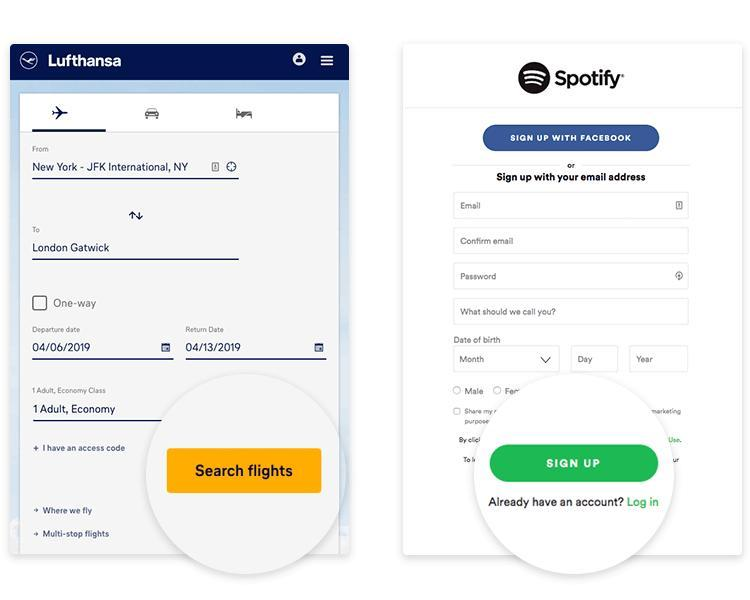button: (490, 446, 663, 483), (167, 451, 322, 492), (484, 125, 660, 154)
checkbox: (33, 297, 49, 312), (454, 408, 462, 416)
dropdown: (455, 347, 559, 373)
icon: (227, 102, 261, 125), (48, 104, 72, 122), (142, 106, 164, 124), (319, 51, 337, 71), (292, 53, 308, 70), (130, 208, 144, 223)
input: (454, 193, 688, 221), (455, 263, 689, 290), (454, 231, 690, 255), (456, 300, 690, 324), (627, 347, 690, 373), (576, 345, 618, 373)
label: (497, 170, 651, 184), (30, 387, 109, 398), (51, 298, 97, 313), (30, 326, 85, 338), (450, 335, 505, 346), (186, 324, 228, 336), (465, 409, 494, 426), (29, 147, 54, 156), (465, 387, 486, 397), (30, 224, 45, 237), (506, 385, 522, 396)
radio: (451, 386, 464, 397), (492, 387, 504, 397)
